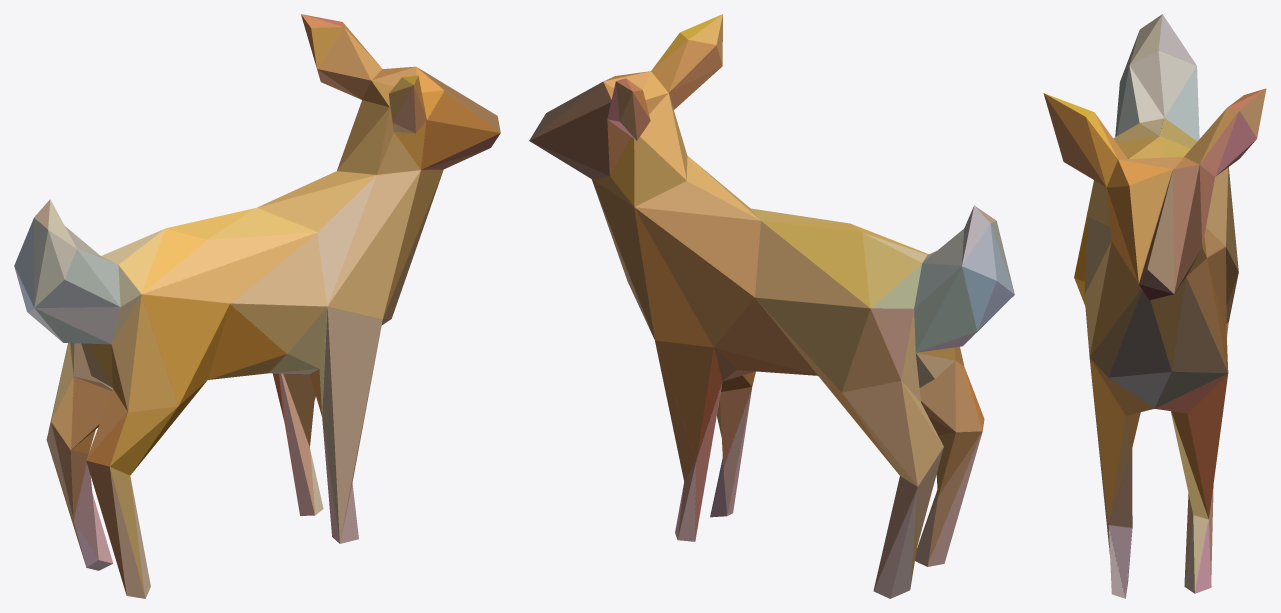
The model's file is deer.fbx.
The picture shows the model from 3 angles, left to right: view 1: azimuth 30°, elevation 25°; view 2: azimuth 150°, elevation 25°; view 3: azimuth 270°, elevation 25°; orthographic projection. The views are drawn at different scales.
Visible parts, largest first — view 1: Mesh_0.002; view 2: Mesh_0.002; view 3: Mesh_0.002.
Boxes of the visible parts, box(x1,y1,x2,y2) form: Mesh_0.002: box(14, 14, 500, 598); Mesh_0.002: box(529, 14, 1014, 598); Mesh_0.002: box(1043, 14, 1266, 598).
Size of the model in its own units: 158 by 153 by 59.04.
Materials: 1 (1 with a texture image).
